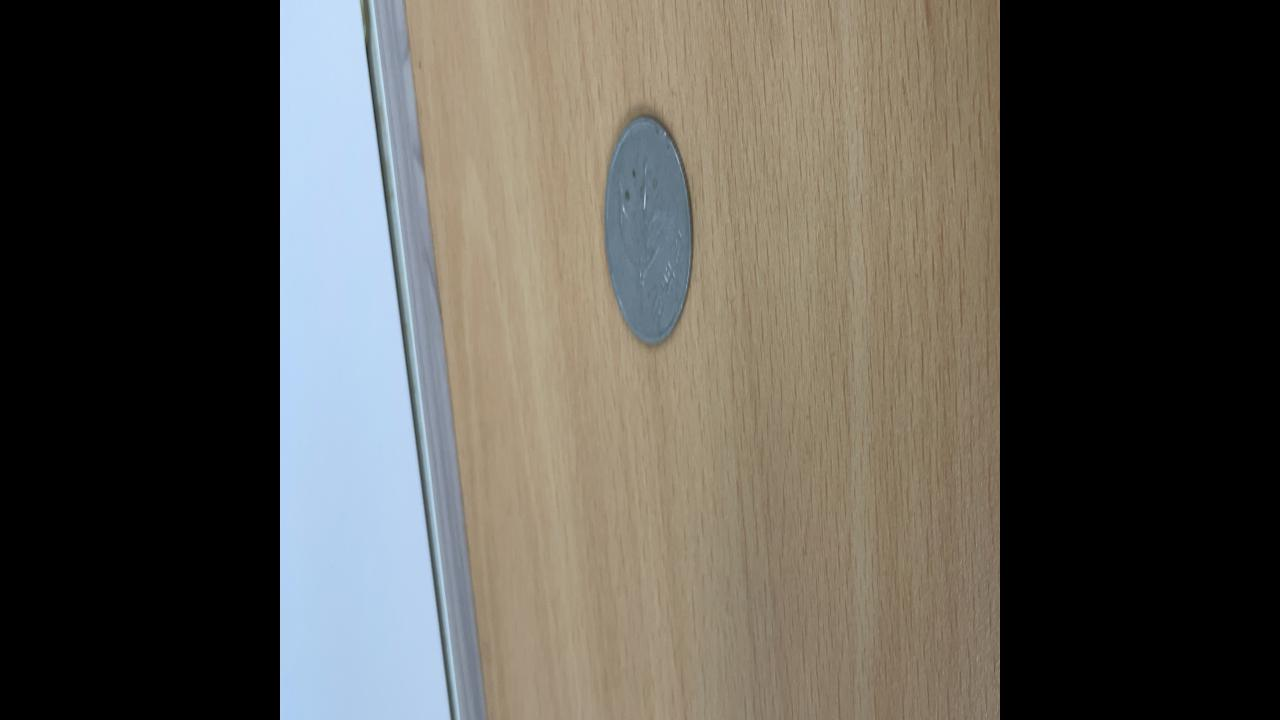coin: (602, 109, 693, 349)
